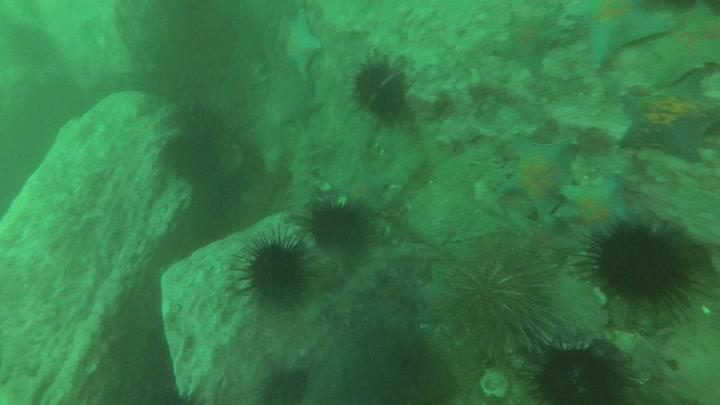urchin: (570, 208, 690, 319), (230, 231, 316, 317), (521, 345, 643, 402), (342, 54, 409, 128), (297, 197, 362, 249)
